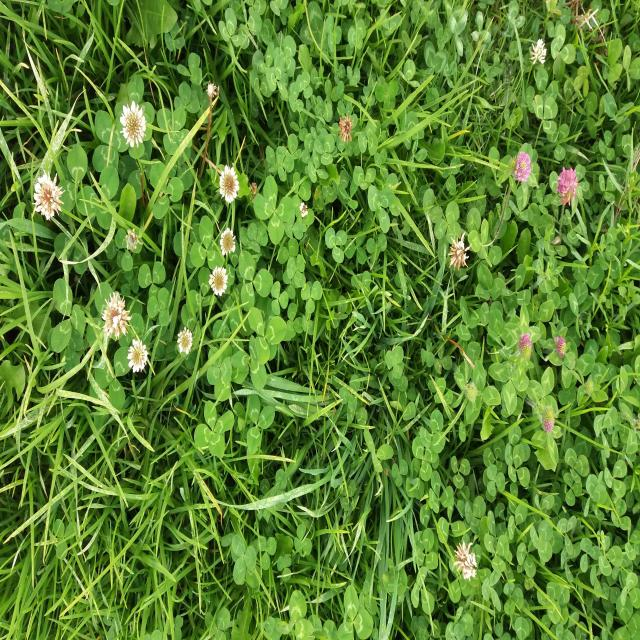Four Leaf Clover: (253, 175, 295, 245), (194, 400, 235, 459), (157, 107, 192, 155)
